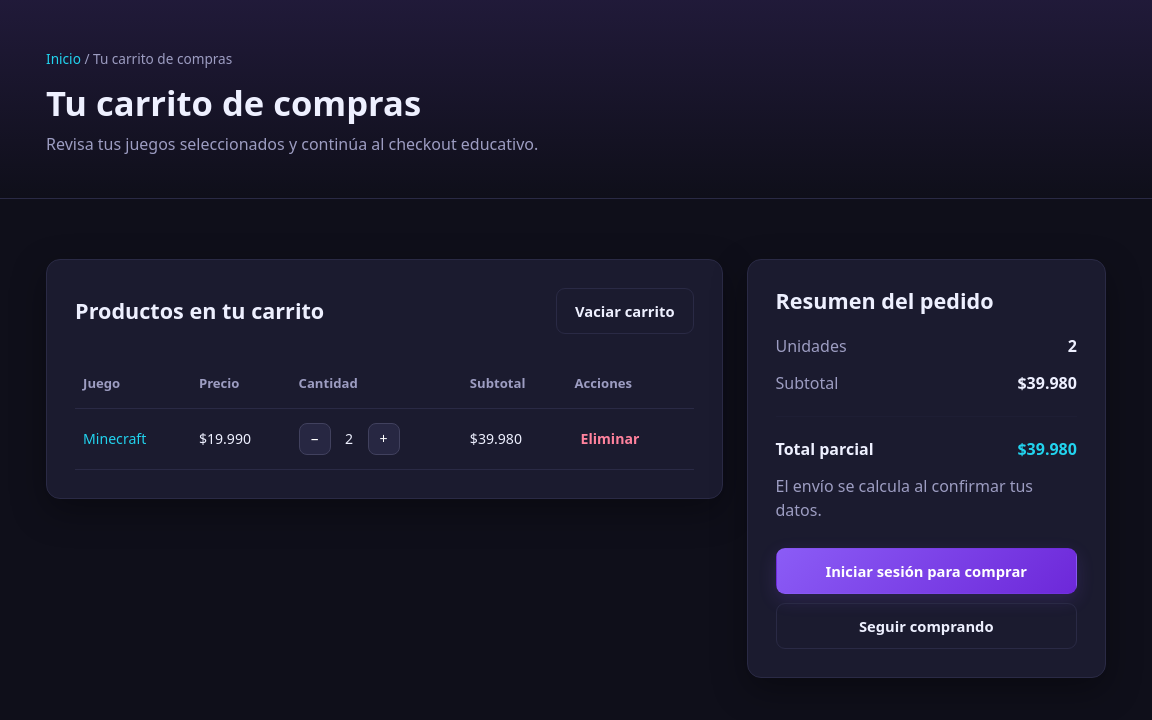
Test case: Chromium: carrito de compras › PF-13: botón Eliminar quita producto
The width and height of the screenshot is (1152, 720).
Click the button with aria-label "Eliminar Minecraft": (610, 439) [575, 427, 645, 451]
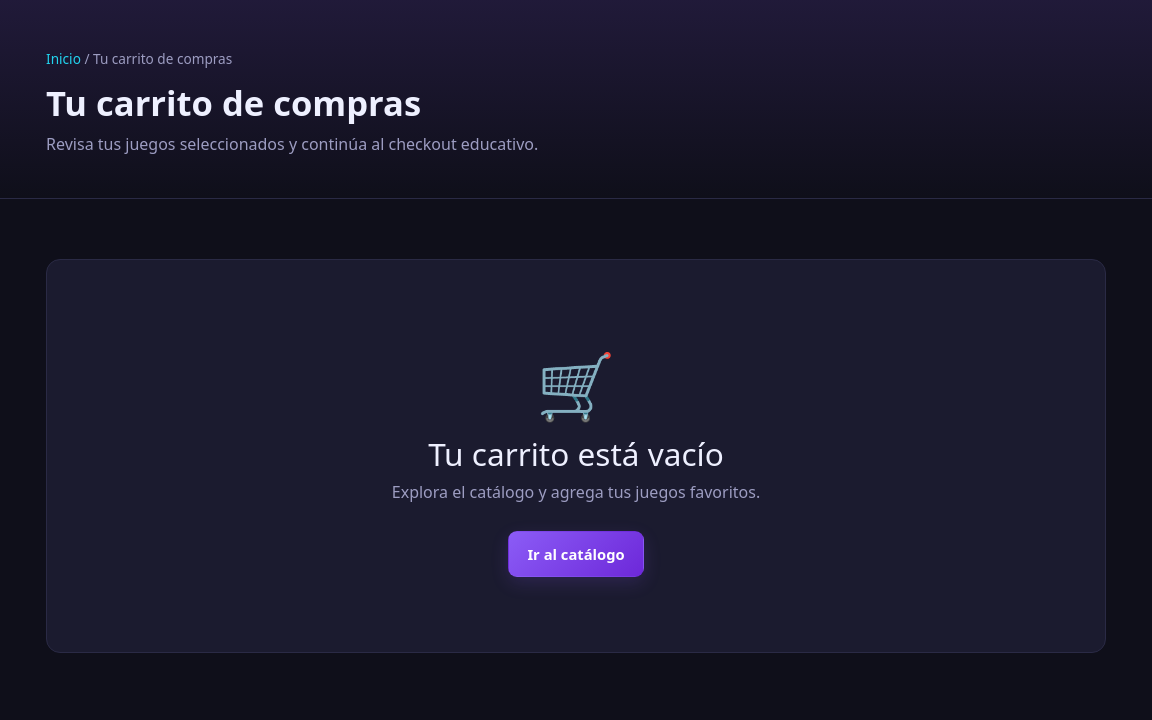
Check: the heading "Tu carrito está vacío" is shown, box [428, 432, 724, 474]
